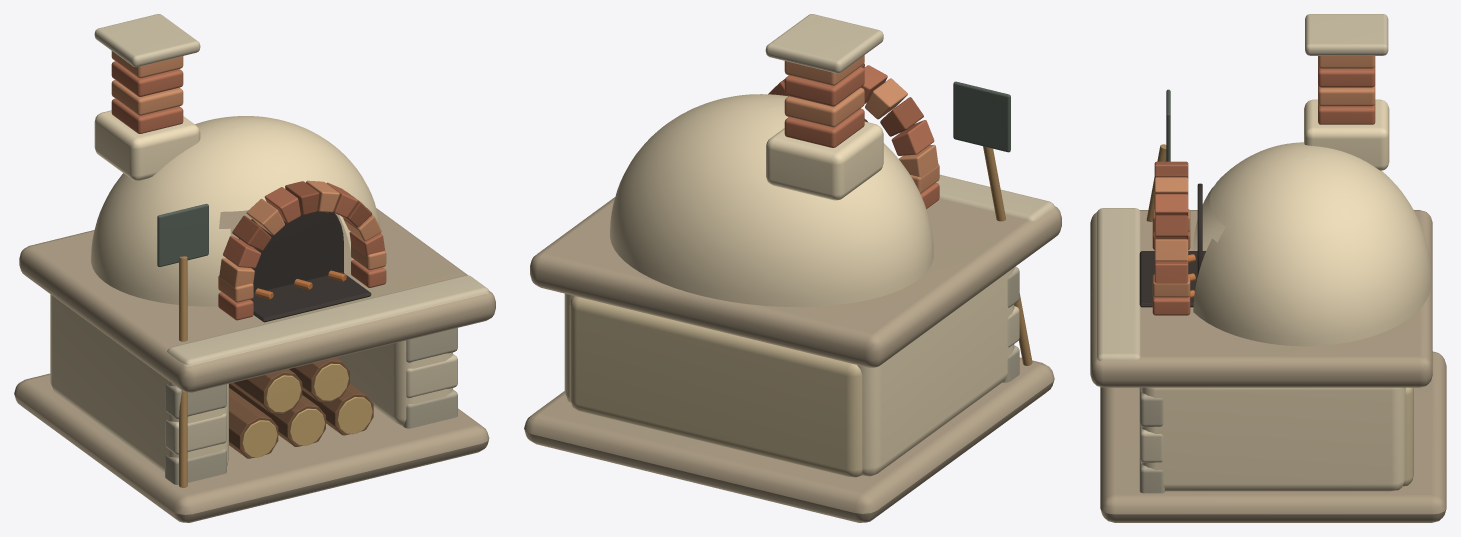
The model's file is cozy_outdoor_oven.glb.
The picture shows the model from 3 angles, left to right: view 1: azimuth 30°, elevation 25°; view 2: azimuth 150°, elevation 25°; view 3: azimuth 270°, elevation 25°; orthographic projection. The views are drawn at different scales.
Visible parts, largest first — view 1: Oven_Hearth, Oven_Plaster, Oven_StoneLight, Oven_Cavity, Oven_Clay, Oven_ClayLight, Oven_Stone, Oven_Wood, Oven_EndGrain, Oven_Iron, Oven_ClayShade, Oven_Handle; view 2: Oven_Plaster, Oven_Hearth, Oven_PlasterShade, Oven_StoneLight, Oven_Clay, Oven_ClayLight, Oven_Iron, Oven_Handle, Oven_ClayShade, Oven_Stone; view 3: Oven_Plaster, Oven_Hearth, Oven_StoneLight, Oven_Clay, Oven_ClayLight, Oven_Cavity, Oven_Stone, Oven_ClayShade, Oven_PlasterShade.
Part boxes in pixels (box(x1,y1,x2,y2)): Oven_Hearth: box(14, 208, 495, 522); Oven_Plaster: box(50, 110, 452, 472); Oven_StoneLight: box(94, 14, 489, 454); Oven_Cavity: box(239, 210, 371, 322); Oven_Clay: box(111, 61, 386, 320); Oven_ClayLight: box(111, 51, 386, 302); Oven_Stone: box(165, 328, 457, 484); Oven_Wood: box(229, 357, 373, 458); Oven_EndGrain: box(242, 363, 372, 457); Oven_Iron: box(157, 203, 208, 266); Oven_ClayShade: box(232, 181, 372, 250); Oven_Handle: box(179, 256, 187, 487); Oven_Plaster: box(564, 94, 1014, 476); Oven_Hearth: box(524, 197, 1061, 522); Oven_PlasterShade: box(569, 296, 862, 477); Oven_StoneLight: box(765, 14, 1054, 347); Oven_Clay: box(783, 65, 939, 208); Oven_ClayLight: box(784, 55, 939, 193); Oven_Iron: box(953, 81, 1010, 152); Oven_Handle: box(983, 146, 1032, 365); Oven_ClayShade: box(768, 63, 923, 136); Oven_Stone: box(1002, 266, 1019, 382); Oven_Plaster: box(1140, 99, 1431, 491); Oven_Hearth: box(1090, 210, 1446, 522); Oven_StoneLight: box(1097, 14, 1388, 462); Oven_Clay: box(1152, 66, 1375, 315); Oven_ClayLight: box(1152, 56, 1375, 297); Oven_Cavity: box(1139, 183, 1205, 307); Oven_Stone: box(1139, 387, 1165, 493); Oven_ClayShade: box(1154, 166, 1188, 239); Oven_PlasterShade: box(1403, 387, 1413, 486).
Bounding box in the file's own units: 1.86 × 2.16 × 1.8.
